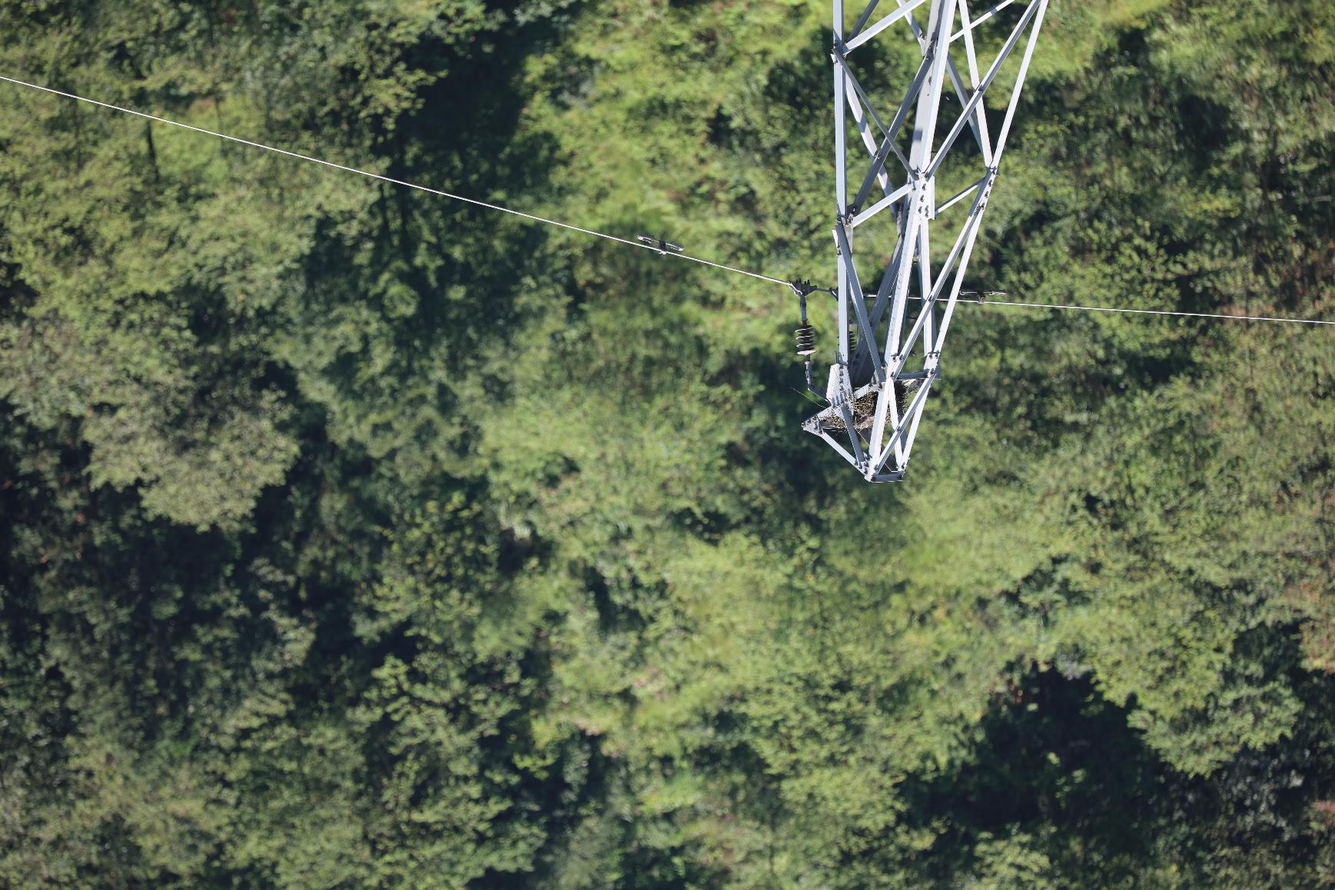damper: (633, 231, 686, 258), (958, 287, 1008, 306)
nest: (823, 380, 912, 436)
